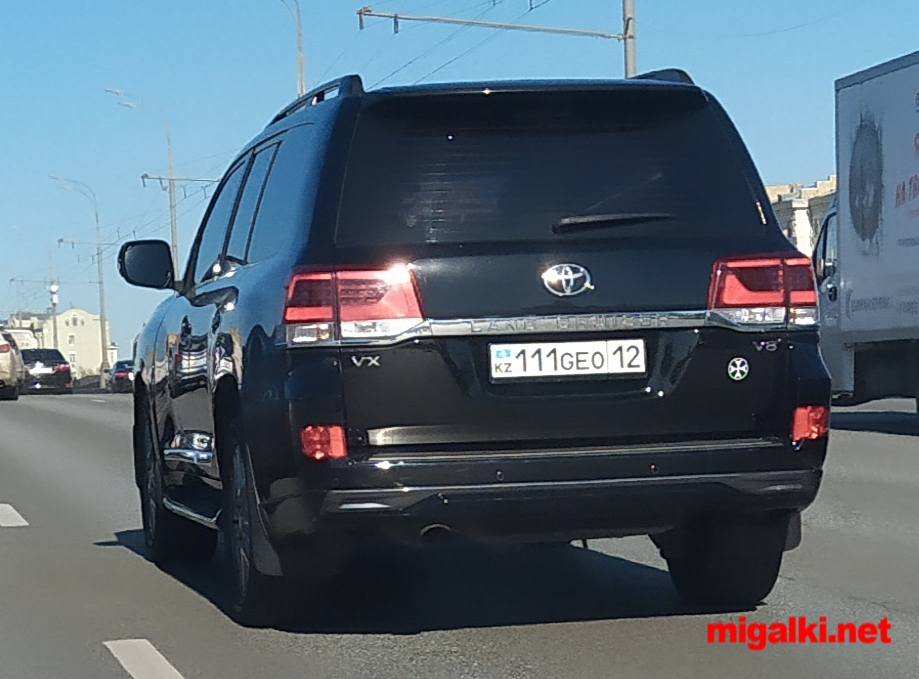license_plate: (484, 344, 646, 375)
